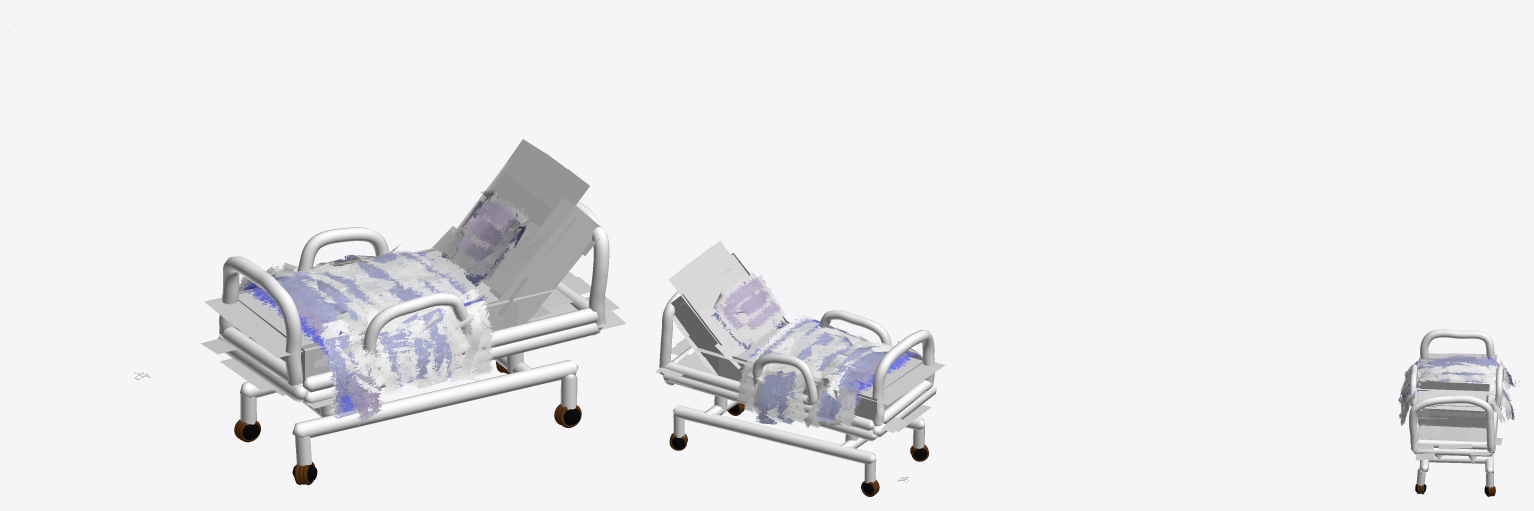
Rendered from Bed.gltf.
3 renders of one model, left to right at view 1: azimuth 30°, elevation 25°; view 2: azimuth 150°, elevation 25°; view 3: azimuth 270°, elevation 25°, orthographic. The views are drawn at different scales.
Parts seen in each view (by area): view 1: brush_Charcoal_g0_b0, brush_Icing_g0_b0, brush_Lacewing_g0_b0, brush_Wire (Lit)_g0_b0, brush_SmoothHull_g0_b0; view 2: brush_Charcoal_g0_b0, brush_Icing_g0_b0, brush_Lacewing_g0_b0; view 3: brush_Icing_g0_b0, brush_Lacewing_g0_b0, brush_Charcoal_g0_b0.
Boxes of the visible parts, <box> form: brush_Charcoal_g0_b0: <box>239,188,532,425</box>; brush_Icing_g0_b0: <box>134,201,609,465</box>; brush_Lacewing_g0_b0: <box>14,25,626,408</box>; brush_Wire (Lit)_g0_b0: <box>234,362,581,485</box>; brush_SmoothHull_g0_b0: <box>242,361,580,482</box>; brush_Charcoal_g0_b0: <box>711,272,922,428</box>; brush_Icing_g0_b0: <box>659,291,936,483</box>; brush_Lacewing_g0_b0: <box>655,14,1286,432</box>; brush_Icing_g0_b0: <box>1409,329,1519,488</box>; brush_Lacewing_g0_b0: <box>1315,14,1502,460</box>; brush_Charcoal_g0_b0: <box>1398,354,1515,426</box>.
Size of the model in its own units: 4.43 by 3.8 by 2.21.
5 materials, 2 textured.
